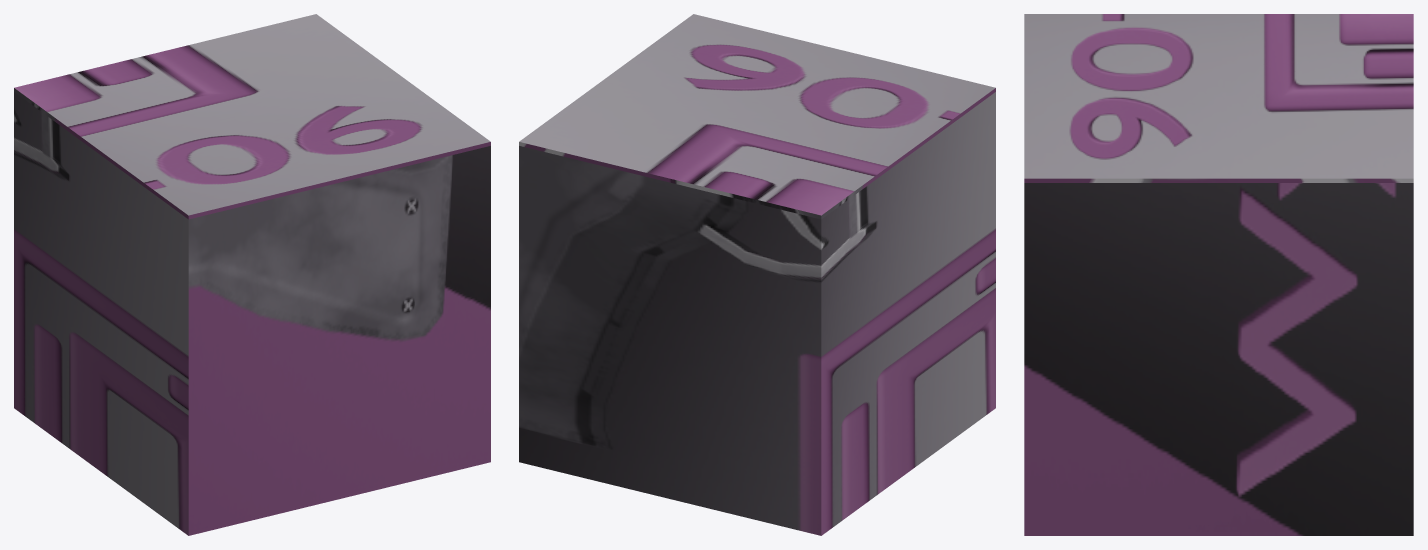
Rendered from SM_CarboardBoxMC.fbx.
The picture shows the model from 3 angles, left to right: view 1: azimuth 30°, elevation 25°; view 2: azimuth 150°, elevation 25°; view 3: azimuth 270°, elevation 25°; orthographic projection. The views are drawn at different scales.
Parts seen in each view (by area): view 1: Box Medium.001, Box Medium - CLOSED.001; view 2: Box Medium.001, Box Medium - CLOSED.001; view 3: Box Medium.001, Box Medium - CLOSED.001.
Boxes of the visible parts, left/top/right/bottom form: Box Medium.001: left=14, top=92, right=490, bottom=535; Box Medium - CLOSED.001: left=14, top=14, right=490, bottom=219; Box Medium.001: left=519, top=92, right=995, bottom=535; Box Medium - CLOSED.001: left=519, top=14, right=995, bottom=219; Box Medium.001: left=1024, top=183, right=1413, bottom=535; Box Medium - CLOSED.001: left=1024, top=14, right=1413, bottom=182.
Size of the model in its own units: 80 by 80 by 81.
